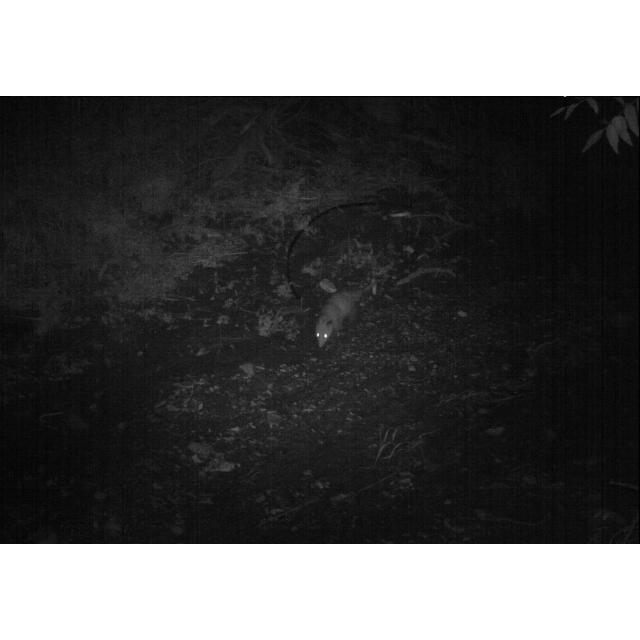animals: (308, 278, 370, 354)
